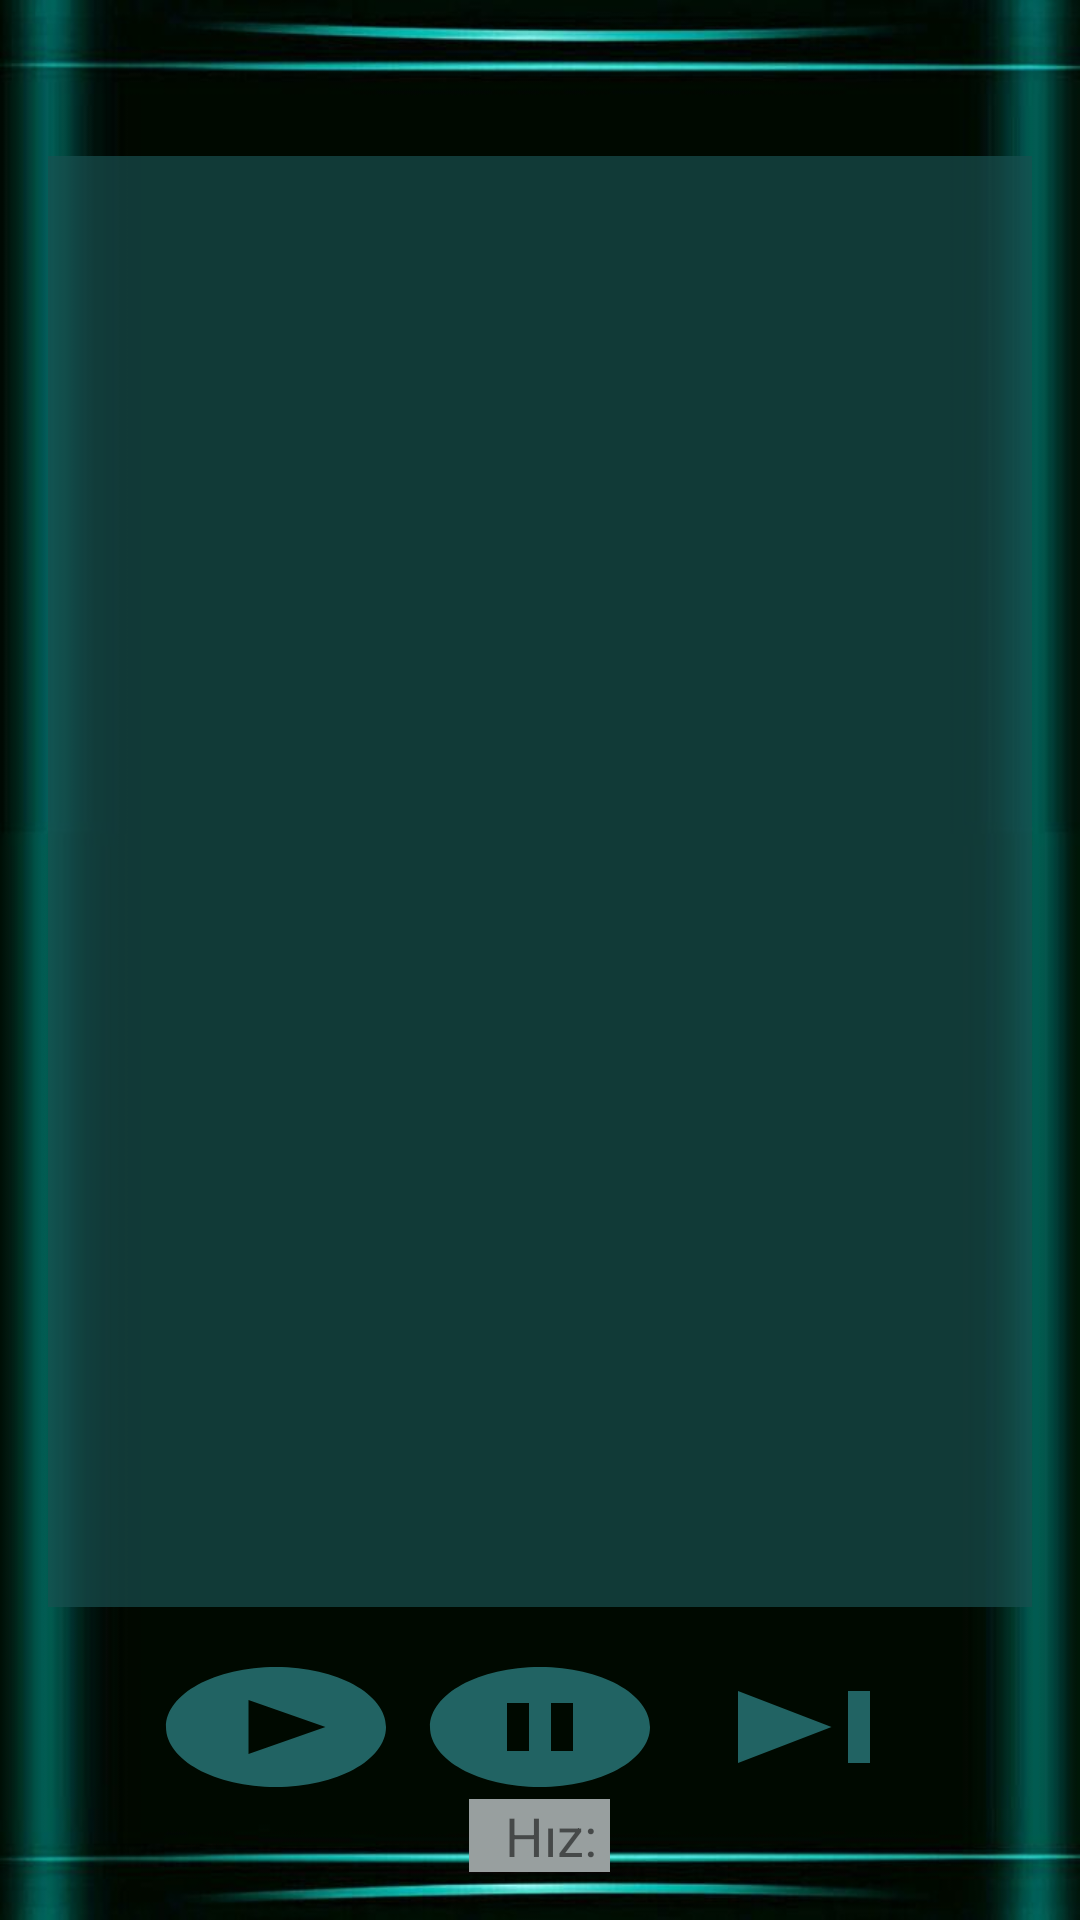

Where icons sit on this 1080 x 1920 app screen, as rect(x1, y1, x2, y2):
next: rect(738, 1691, 870, 1763)
pause: rect(430, 1667, 650, 1787)
play: rect(166, 1667, 386, 1787)
